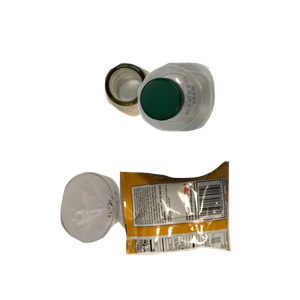glass: (58, 170, 202, 300)
metal: (102, 60, 252, 169)
plastic: (135, 60, 300, 184)
trash: (117, 159, 300, 300)
